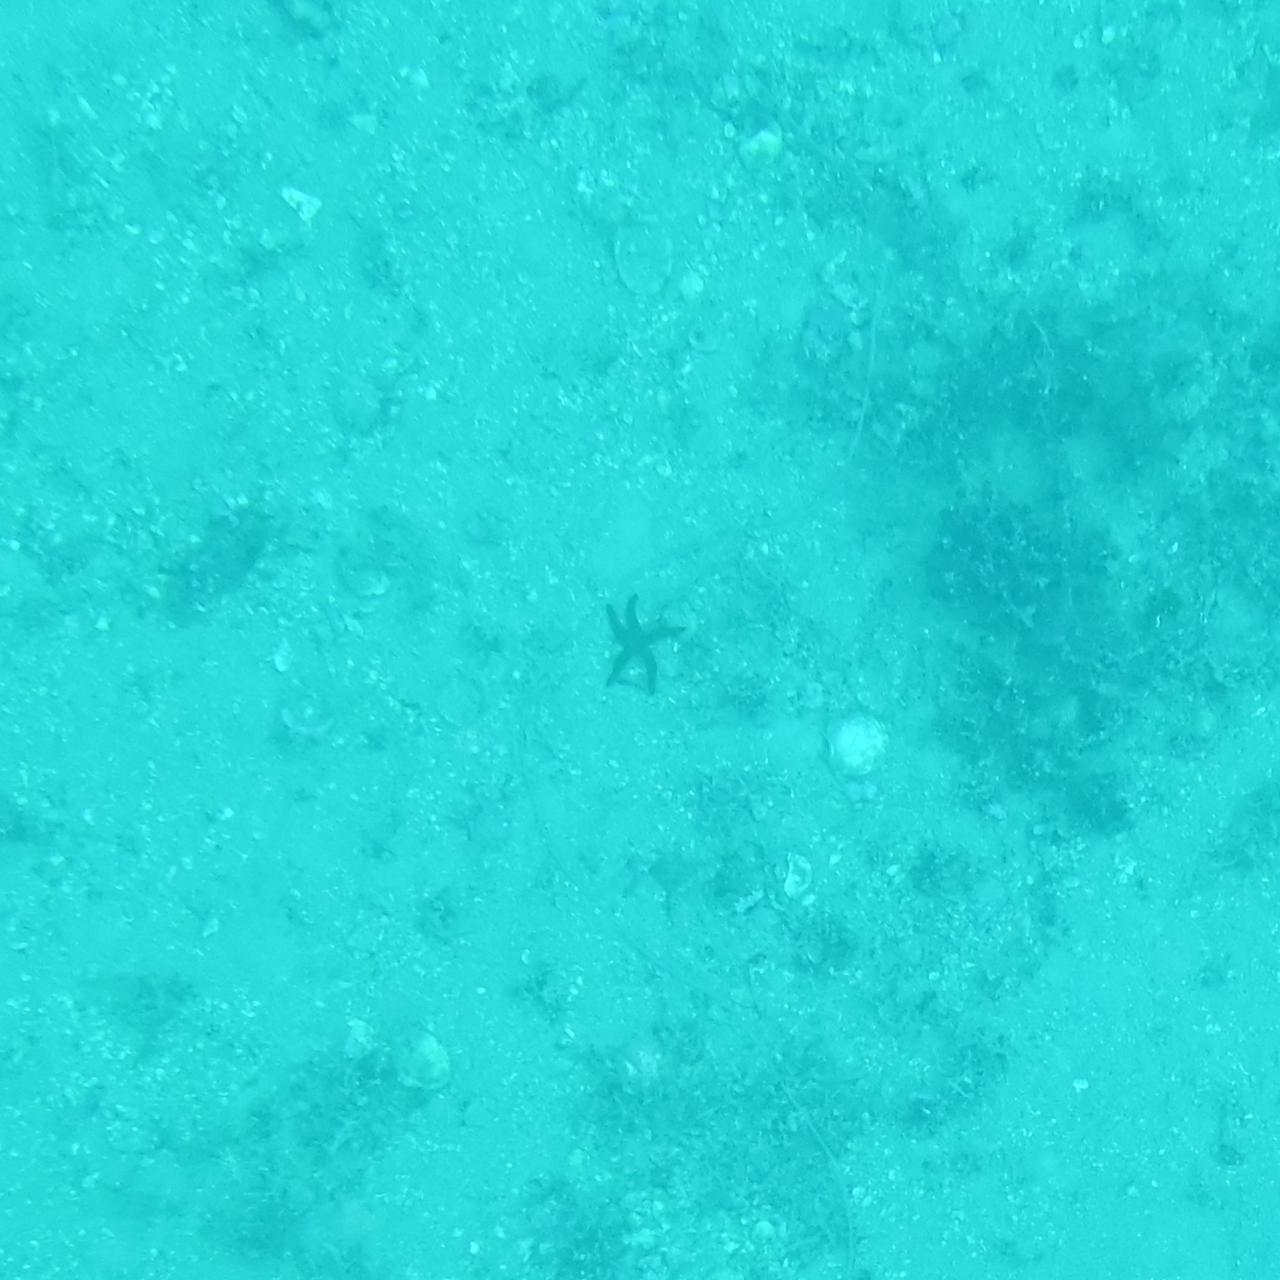Asteroidea: (586, 584, 694, 696)
